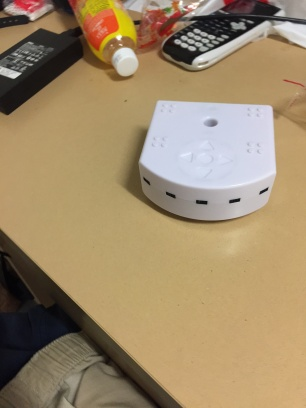thymio: (127, 93, 285, 227)
